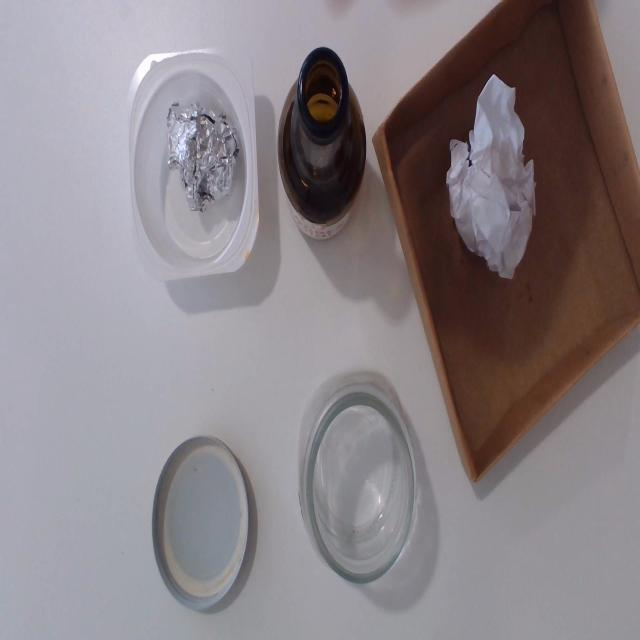Glass: (295, 366, 419, 586), (280, 48, 365, 247)
Paper: (455, 71, 531, 284)
